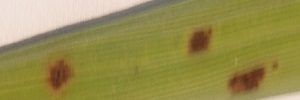RiceBrownSpot: (175, 14, 284, 100), (40, 52, 81, 100)
